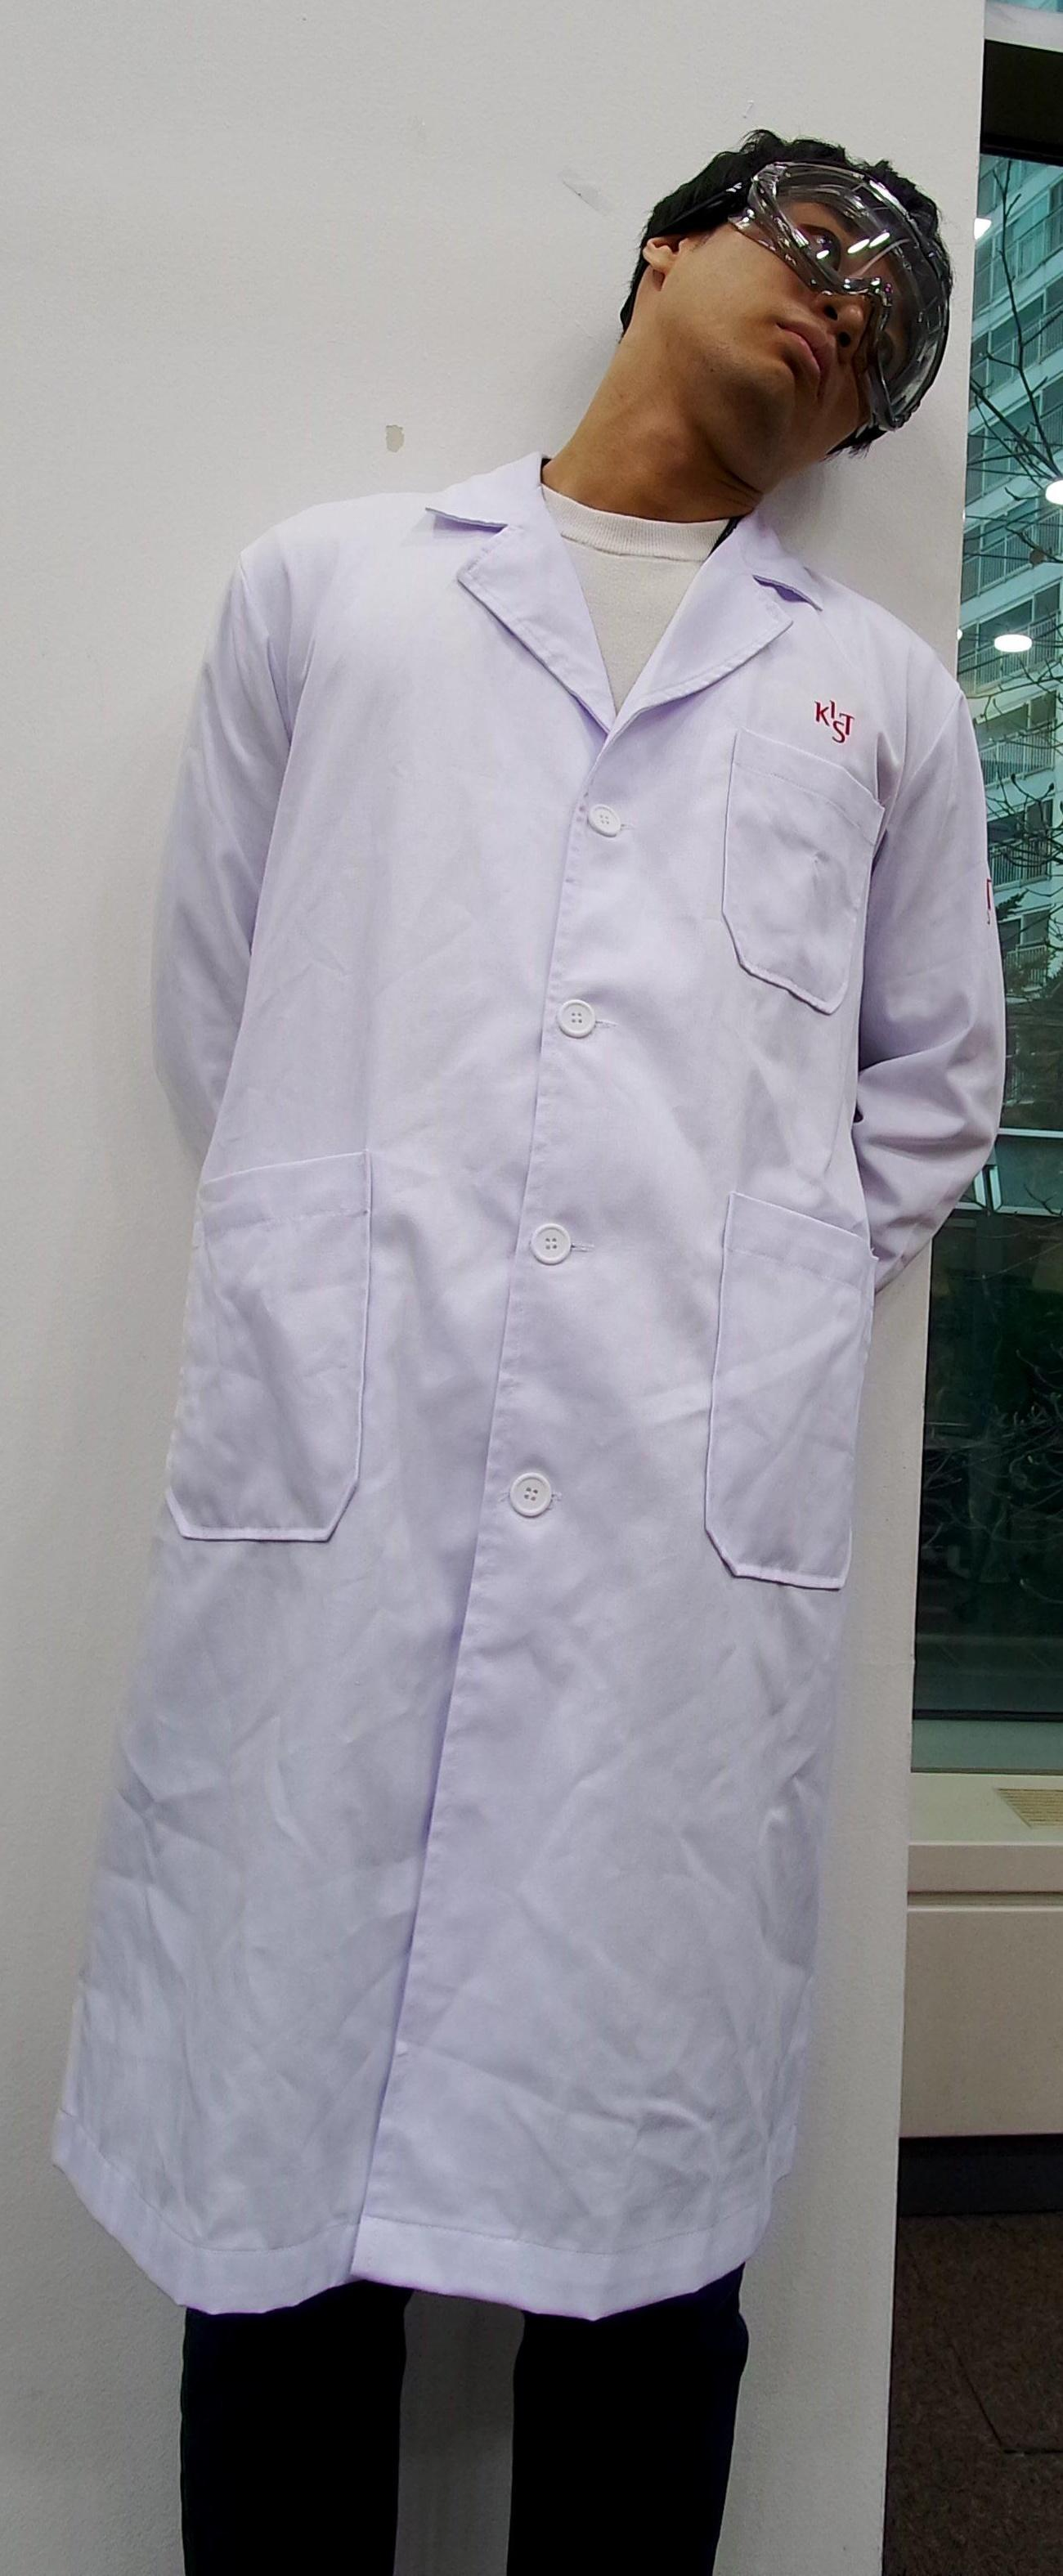lab_coat: (145, 565, 853, 2270)
